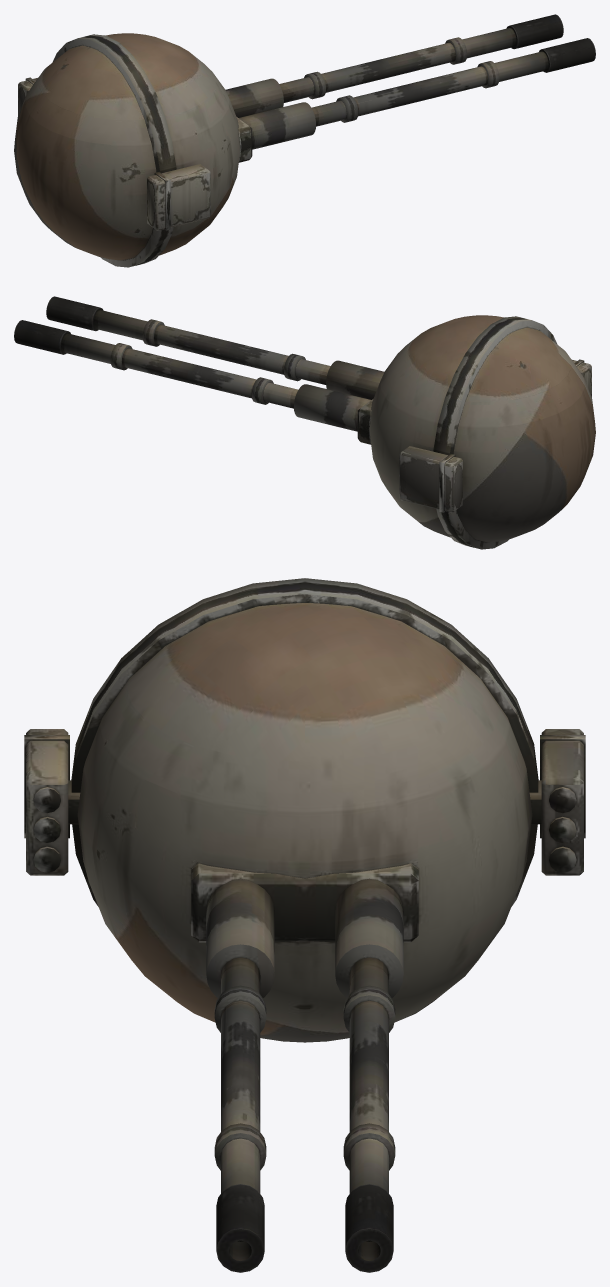
The model's file is turret_kit_tail_ball_t1_rock.glb.
The picture shows the model from 3 angles, top to bottom: view 1: azimuth 30°, elevation 25°; view 2: azimuth 150°, elevation 25°; view 3: azimuth 270°, elevation 25°; orthographic projection. The views are drawn at different scales.
Visible parts, largest first — view 1: turret_tail_ball_t1, pods; view 2: turret_tail_ball_t1, pods; view 3: turret_tail_ball_t1, pods.
Boxes of the visible parts, x1,y1,x2,y2 form: turret_tail_ball_t1: [14, 14, 595, 267]; pods: [18, 77, 210, 230]; turret_tail_ball_t1: [14, 296, 595, 549]; pods: [399, 359, 591, 512]; turret_tail_ball_t1: [71, 578, 538, 1272]; pods: [24, 729, 585, 875].
Size of the model in its own units: 1.66 by 0.62 by 0.7402.
Materials: 2 (2 with a texture image).
